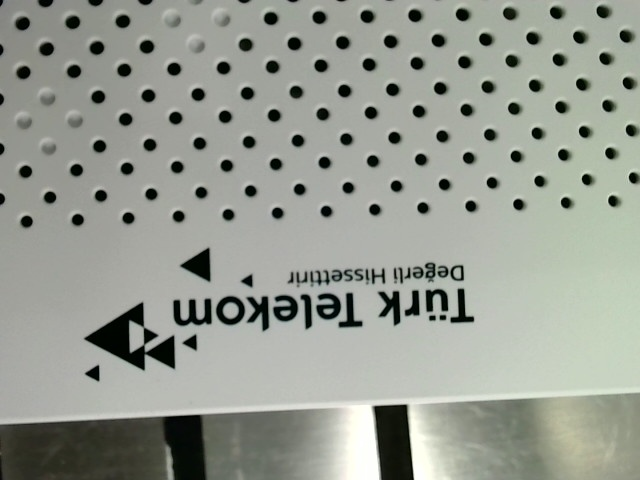AQ_TURKTelekom: (59, 242, 482, 384)
